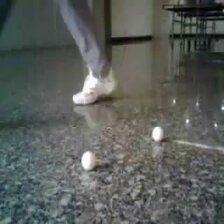w: (81, 151, 99, 170), (150, 126, 164, 142)
